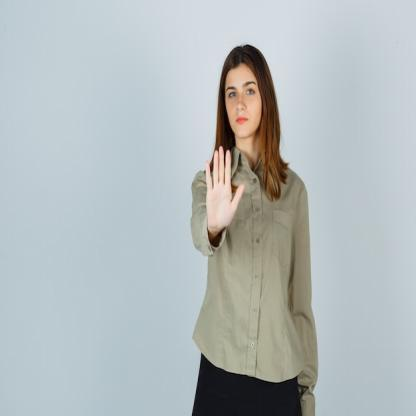stop: (205, 144, 247, 235)
